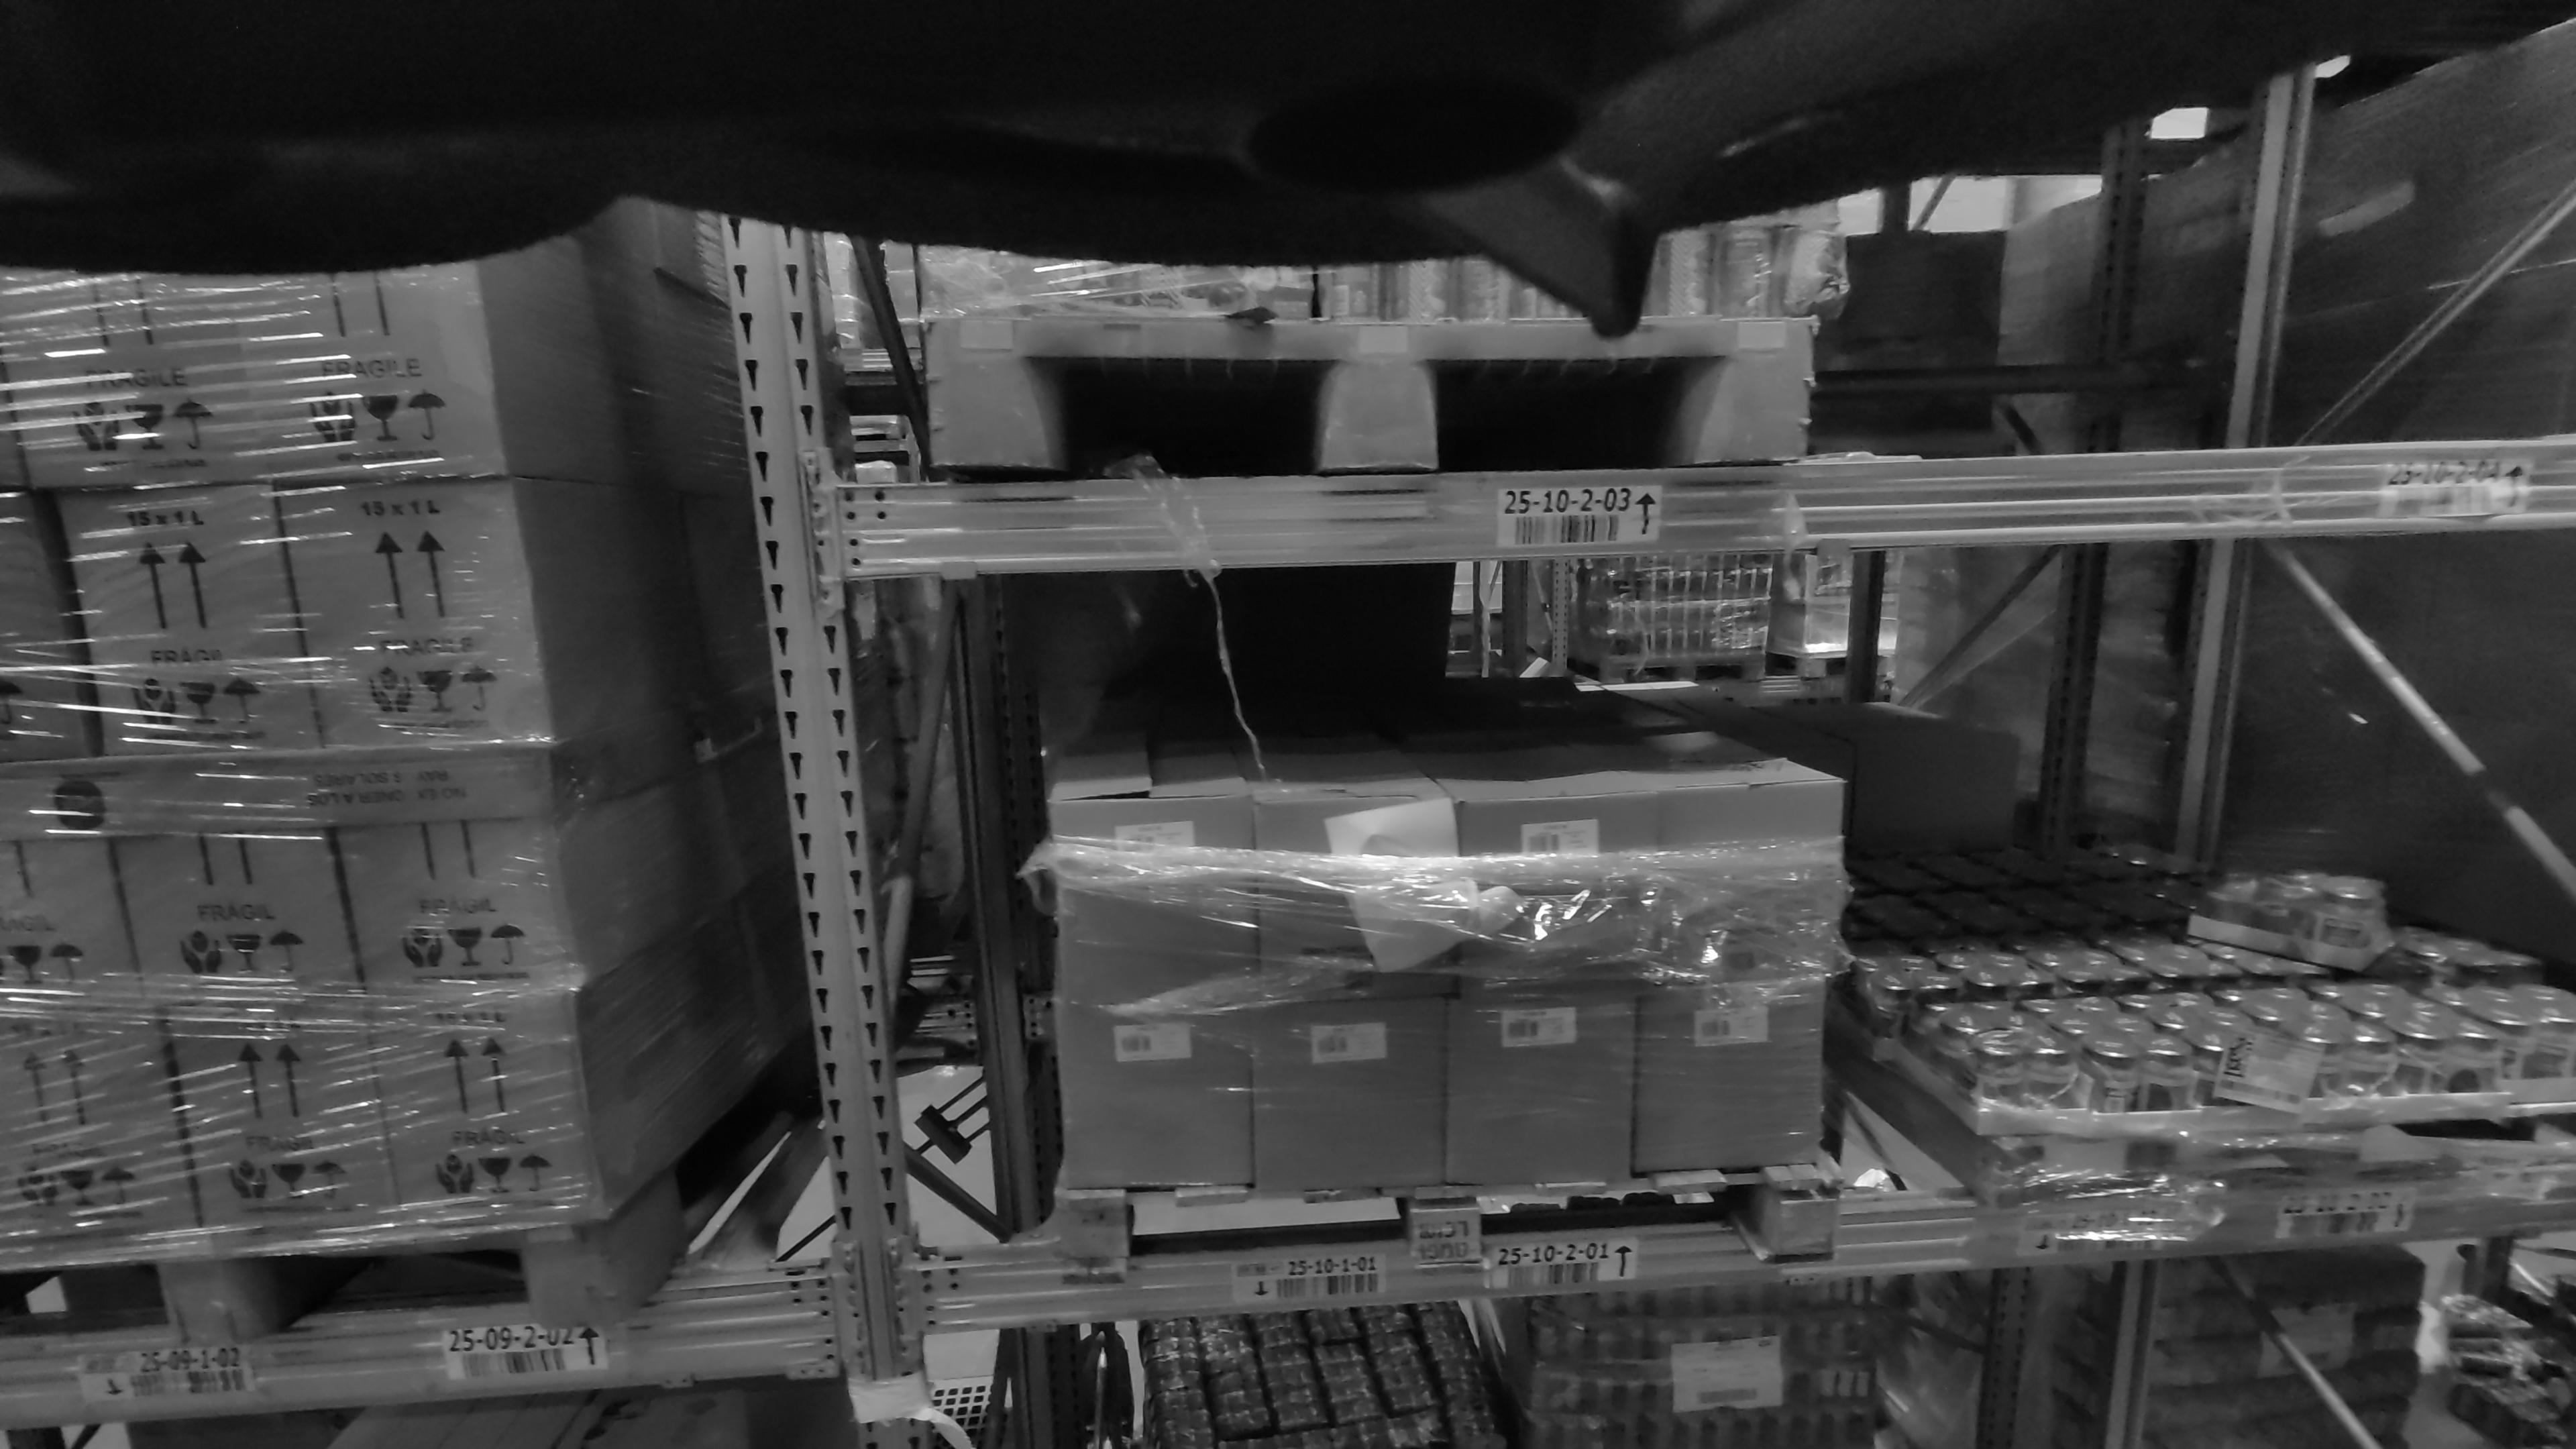empty-shelf: (1858, 5, 2576, 464)
